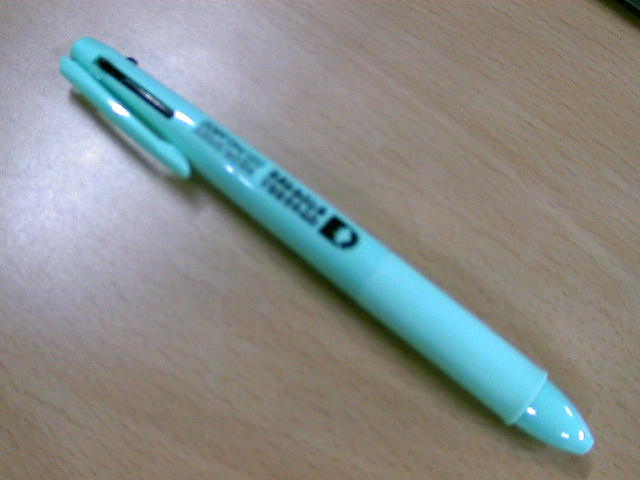pen: (57, 37, 600, 465)
